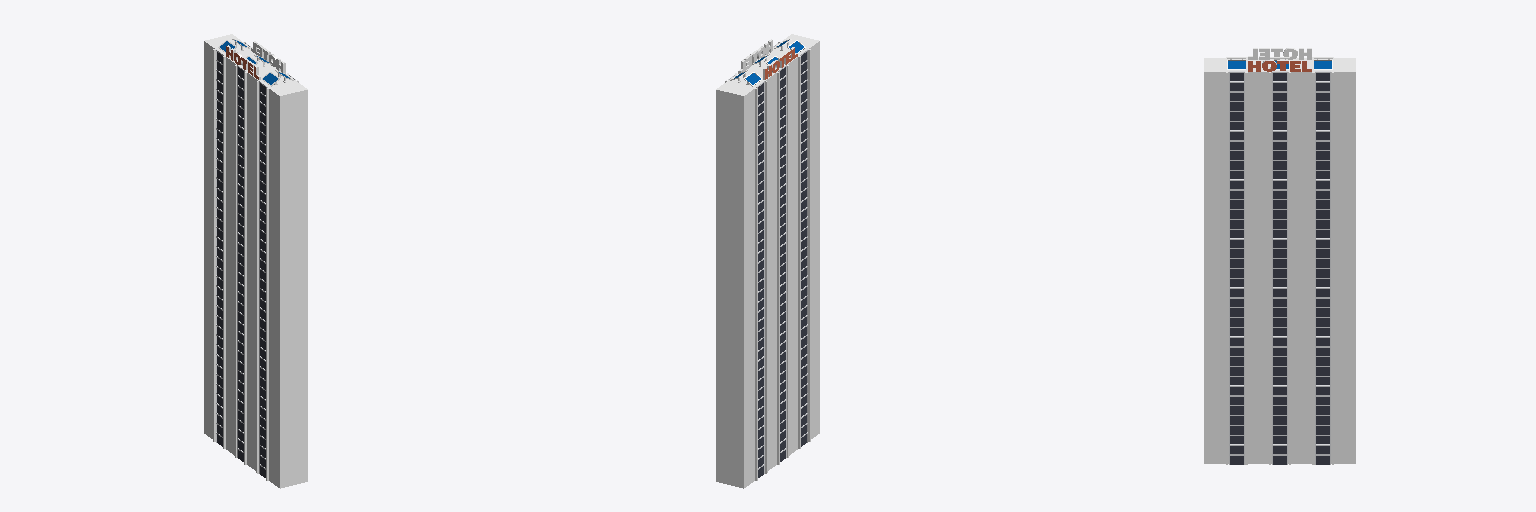
3 renders of one model, left to right at view 1: azimuth 30°, elevation 25°; view 2: azimuth 150°, elevation 25°; view 3: azimuth 270°, elevation 25°, orthographic.
Visible parts, largest first — view 1: block_default_13, columns_17, columns_18, columns_16; view 2: block_default_13, columns_17, columns_18, columns_16; view 3: block_default_13, columns_19, columns_21, columns_20, sign_textHotel_276, sign_textHotel_275.
Part boxes in pixels (left/top/right/bottom): block_default_13: left=204, top=34, right=307, bottom=488; columns_17: left=213, top=49, right=225, bottom=448; columns_18: left=256, top=81, right=268, bottom=480; columns_16: left=235, top=65, right=246, bottom=464; block_default_13: left=716, top=34, right=819, bottom=488; columns_17: left=755, top=81, right=767, bottom=480; columns_18: left=798, top=49, right=810, bottom=448; columns_16: left=777, top=65, right=788, bottom=464; block_default_13: left=1204, top=58, right=1355, bottom=463; columns_19: left=1226, top=72, right=1247, bottom=464; columns_21: left=1312, top=72, right=1333, bottom=464; columns_20: left=1269, top=72, right=1290, bottom=464; sign_textHotel_276: left=1248, top=60, right=1311, bottom=71; sign_textHotel_275: left=1248, top=48, right=1311, bottom=59.
Size of the model in its own units: 1.7 by 20.55 by 7.